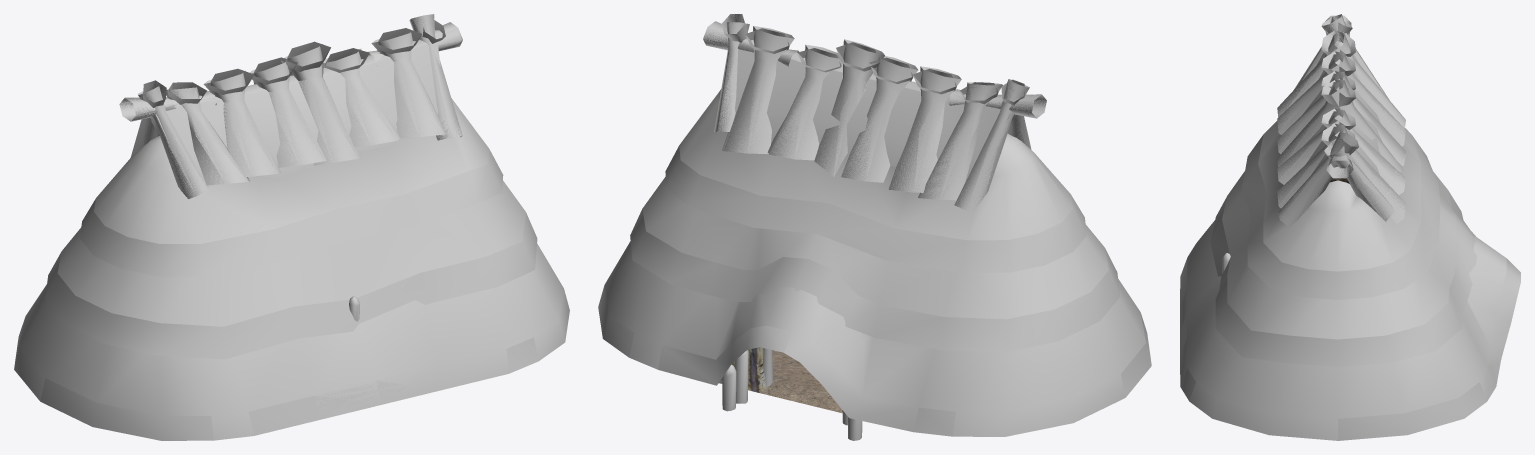
File: Roundhut_3.fbx
The picture shows the model from 3 angles, left to right: view 1: azimuth 30°, elevation 25°; view 2: azimuth 150°, elevation 25°; view 3: azimuth 270°, elevation 25°; orthographic projection. The views are drawn at different scales.
Parts seen in each view (by area): view 1: Alpha; view 2: Alpha, Ground, Wood, Plaster_4; view 3: Alpha.
Boxes of the visible parts, <box> form: Alpha: <box>14,14,569,440</box>; Alpha: <box>598,14,1151,436</box>; Ground: <box>759,350,842,413</box>; Wood: <box>722,348,862,440</box>; Plaster_4: <box>719,347,842,411</box>; Alpha: <box>1180,14,1520,440</box>.
Size of the model in its own units: 2226 by 1347 by 1481.
